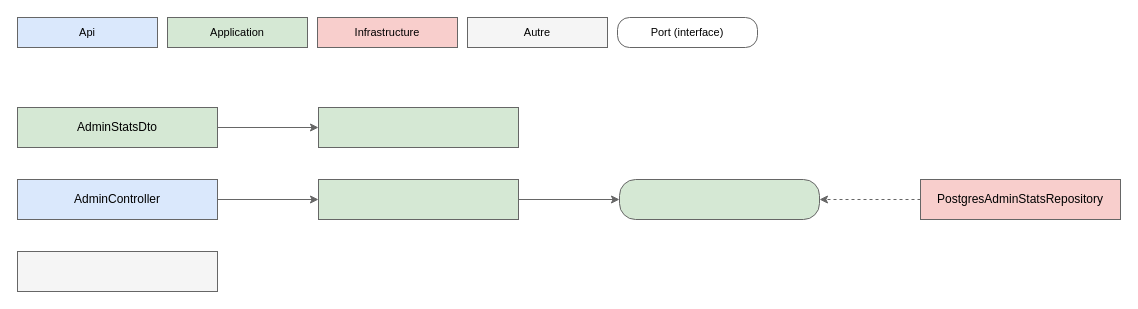
This 1138x309 diagram has some shape labels left out. The centre of each missing label's shape, as x and y in pixels:
"AdminModule" belongs at (x=117, y=271).
"GetAdminStatsUseCase" belongs at (x=418, y=199).
"IAdminStatsRepository" belongs at (x=719, y=199).
"ModuleUserCountDto" belongs at (x=418, y=127).
